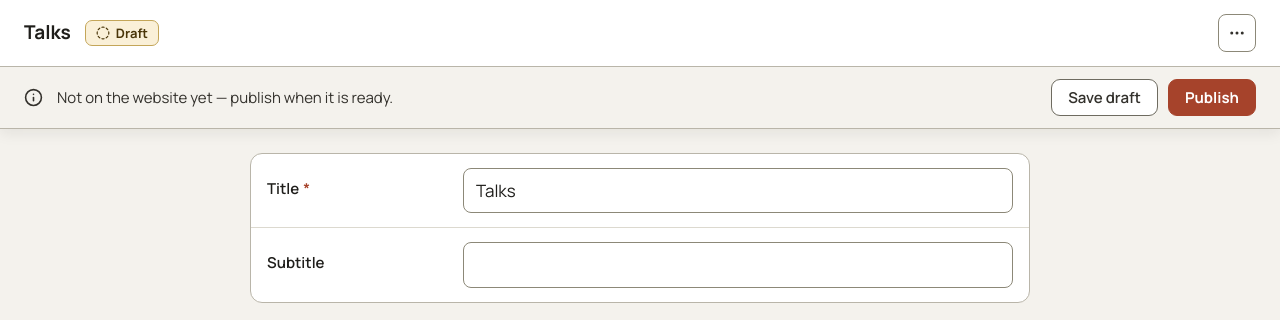
ItemEdit for a saved draft › explains it is not live and offers Save draft and Publish
Check: the text "Draft" is shown, box [85,20,159,46]
Check: the message shows "Not on the website yet", box [57,87,393,108]
Step 1. Click the button "Publish" → (1212, 98), box [1168,79,1256,116]
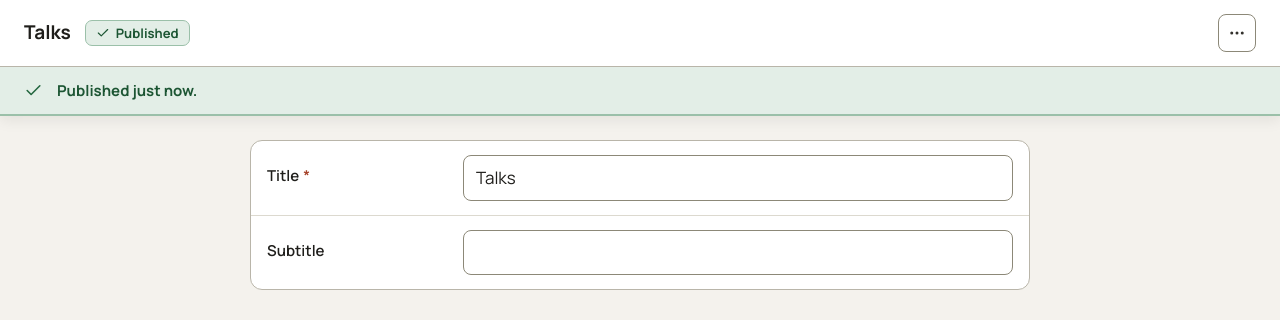
Check: the text "Published" is shown, box [85,20,190,46]
